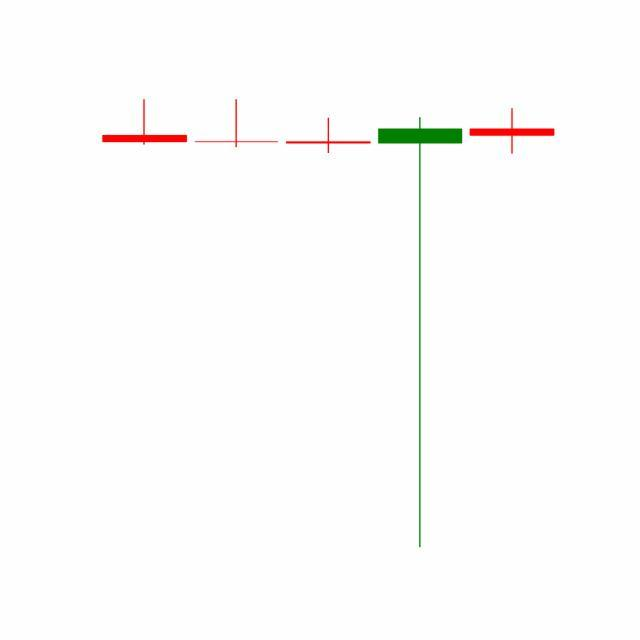Spinning Top: (466, 107, 559, 155)
